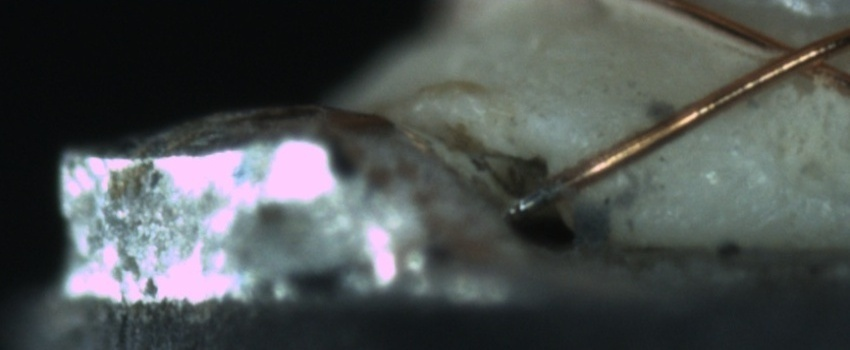CL: (745, 27, 842, 87)
TS: (515, 170, 574, 218)
